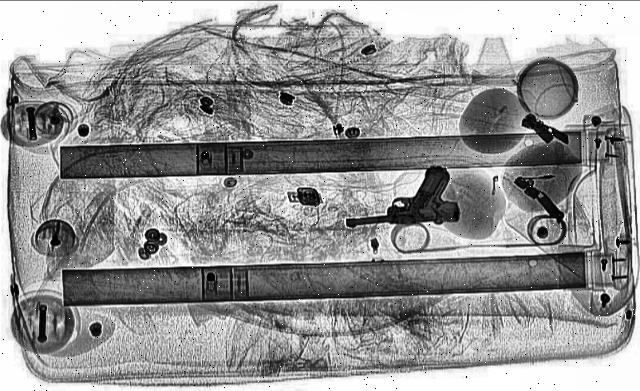Gun: (334, 166, 466, 228)
